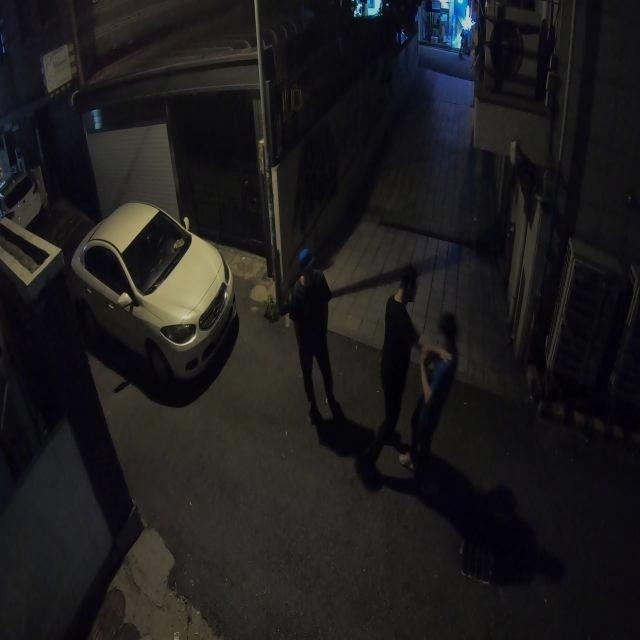fight: (376, 272, 461, 488)
non-fight: (286, 247, 344, 432)
